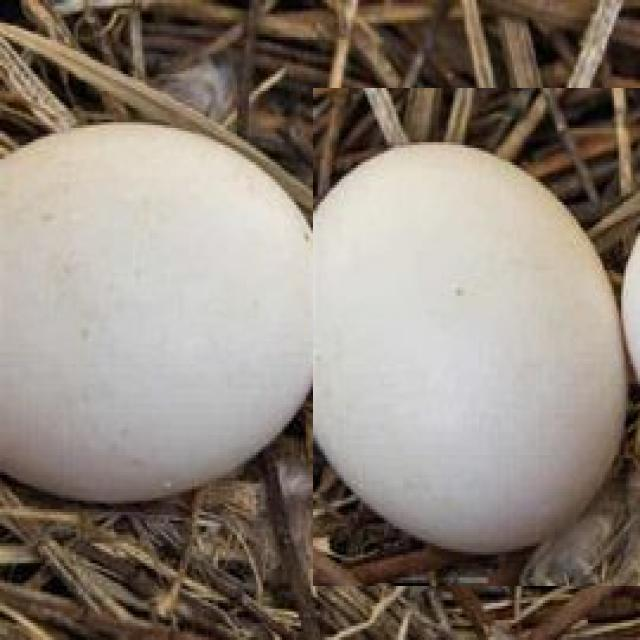Egg: (313, 88, 640, 586), (5, 112, 342, 496)
